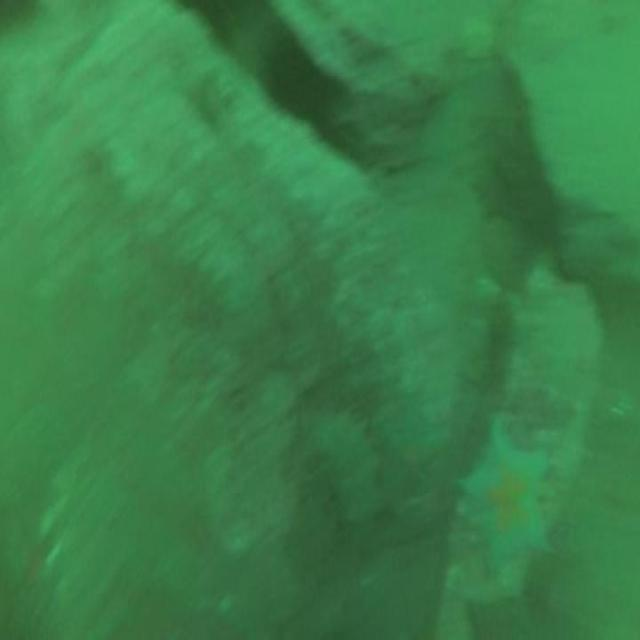echinus: (270, 34, 332, 121)
starfish: (457, 422, 554, 572), (381, 400, 450, 494)
